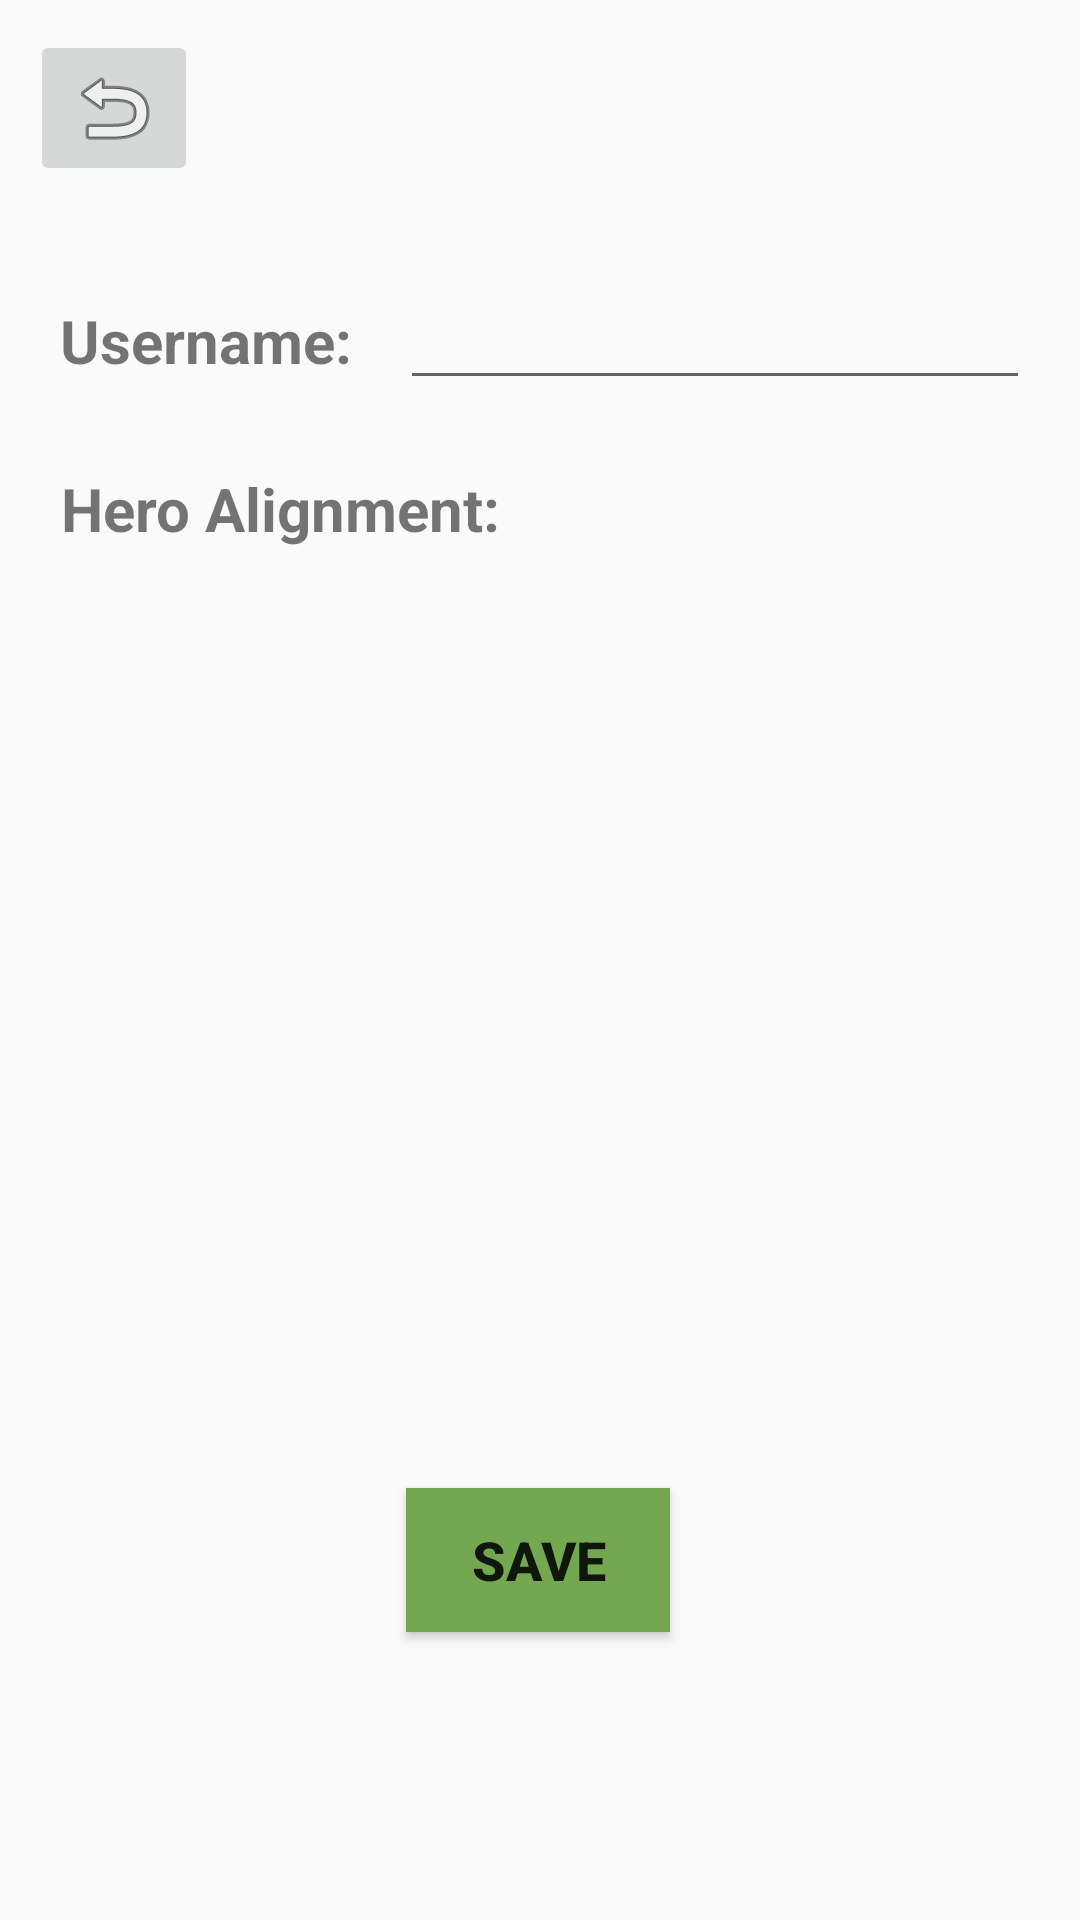

Where to tap for icons on this 1080px x 1920px app screen, as (x=x, y=y):
revert: (x=114, y=108)
